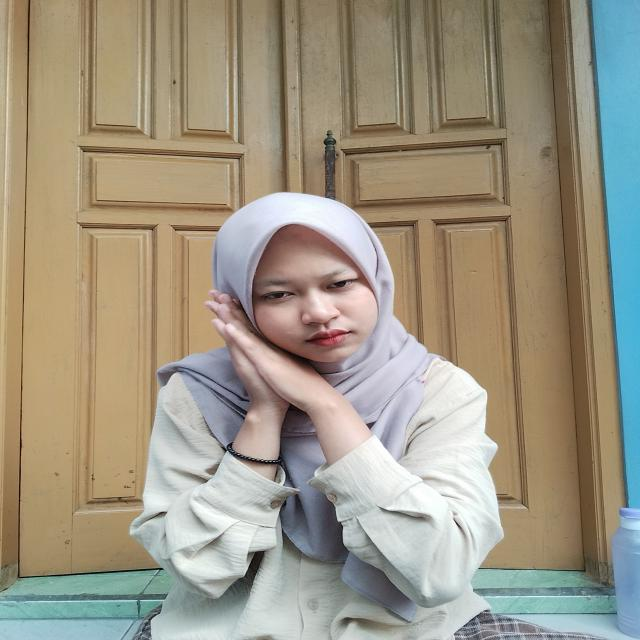tidur: (184, 289, 366, 461)
